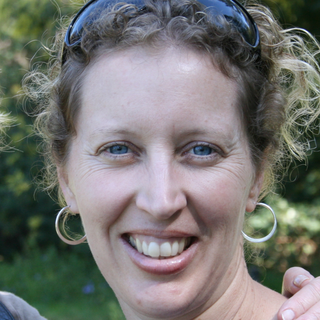eye: (175, 139, 226, 165), (94, 138, 145, 164)
